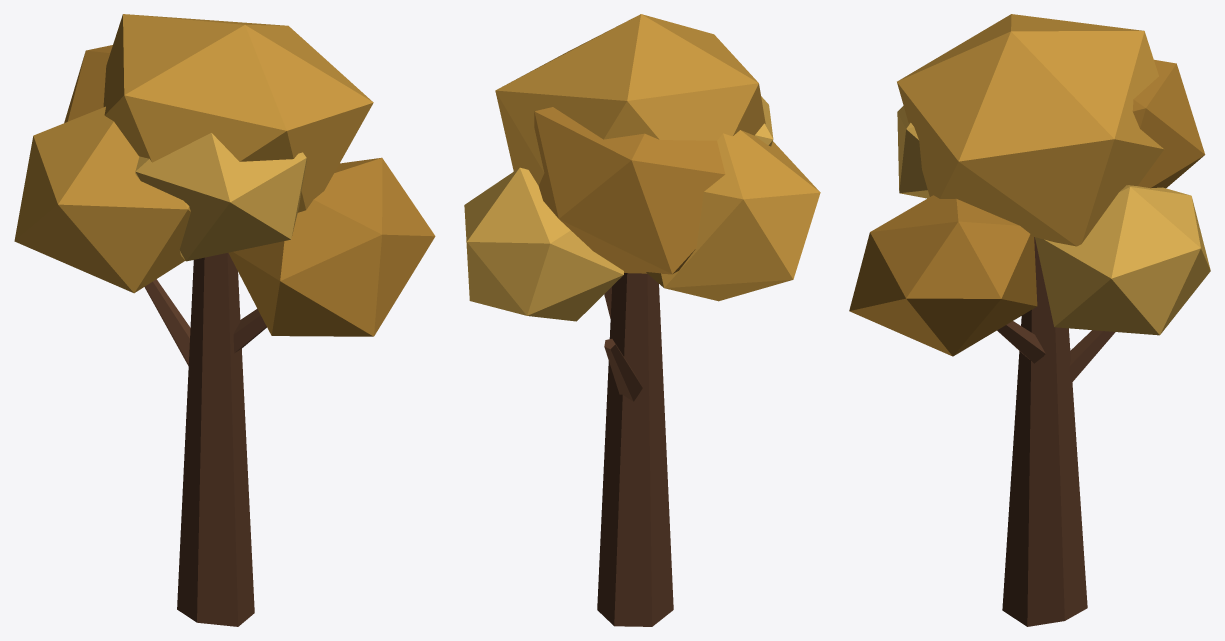
Rendered from tree_3.glb.
The picture shows the model from 3 angles, left to right: view 1: azimuth 30°, elevation 25°; view 2: azimuth 150°, elevation 25°; view 3: azimuth 270°, elevation 25°; orthographic projection. The views are drawn at different scales.
Parts seen in each view (by area): view 1: tree_3; view 2: tree_3; view 3: tree_3.
Part boxes in pixels (x1,y1,x2,y2): tree_3: (14, 14, 435, 626); tree_3: (464, 14, 820, 626); tree_3: (849, 14, 1210, 626).
Bounding box in the file's own units: 1.56 × 2.7 × 1.51.
